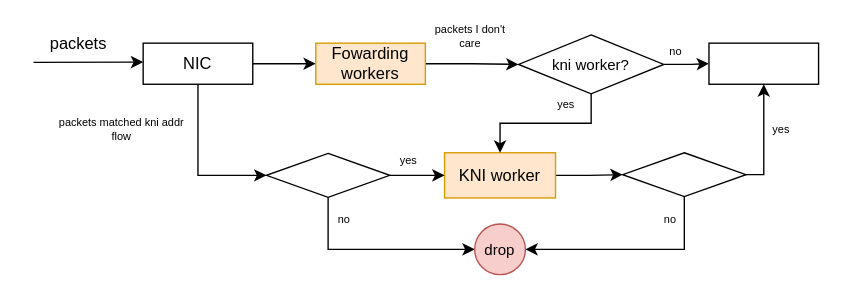
Some shapes in this 843 by 299 pixel diagram are drawn without their labels. Here are the shapes that lost their labels. From the top down, the box of each, then its label:
(708, 42, 819, 84): KNI interface
(265, 152, 390, 197): kni rxq?
(621, 151, 746, 197): kni txq?
